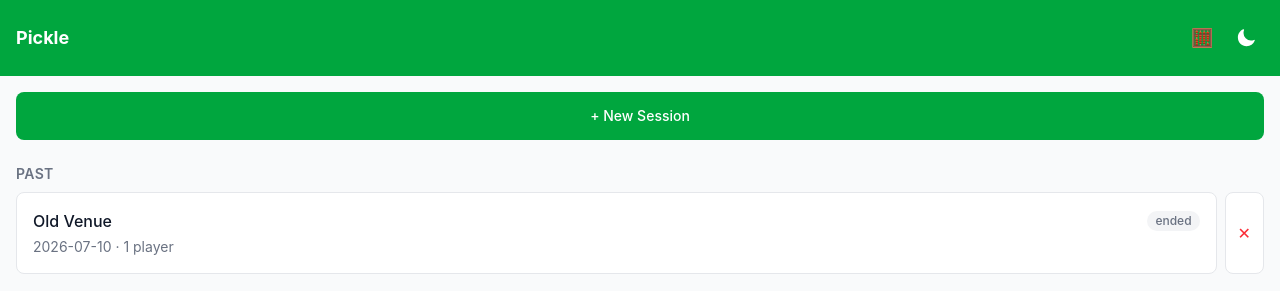
Test: SessionListScreen › deletes an ended session after confirm
What coordinates should you click on to do the following:
click the button named "Delete session Old Venue"
I would click on:
 (1244, 233)
Its box is x1=1225 y1=192 x2=1264 y2=274.
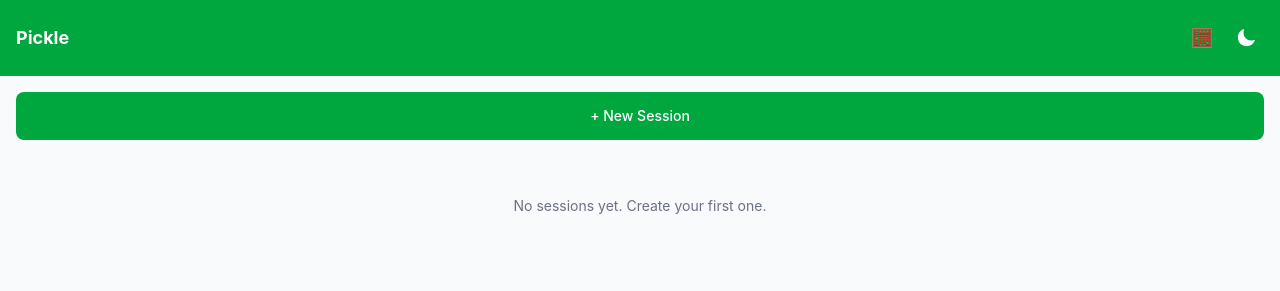
Expected: the button "Old Venue" is gone
